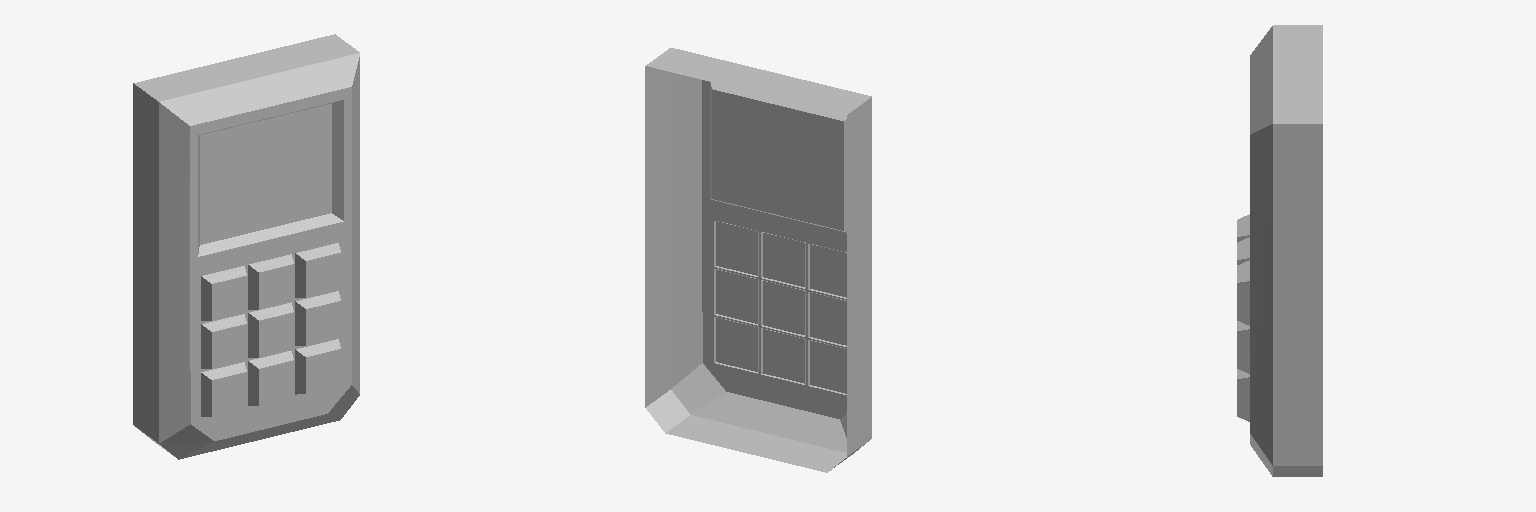
The model's file is Keypad.obj.
The picture shows the model from 3 angles: view 1: azimuth 30°, elevation 25°; view 2: azimuth 150°, elevation 25°; view 3: azimuth 270°, elevation 25°; orthographic projection.
Parts seen in each view (by area): view 1: Keypad; view 2: Keypad; view 3: Keypad.
Boxes of the visible parts, x1,y1,x2,y2 form: Keypad: [133, 34, 359, 459]; Keypad: [645, 48, 871, 472]; Keypad: [1237, 25, 1322, 476].
Size of the model in its own units: 9.8 by 16.84 by 3.66.